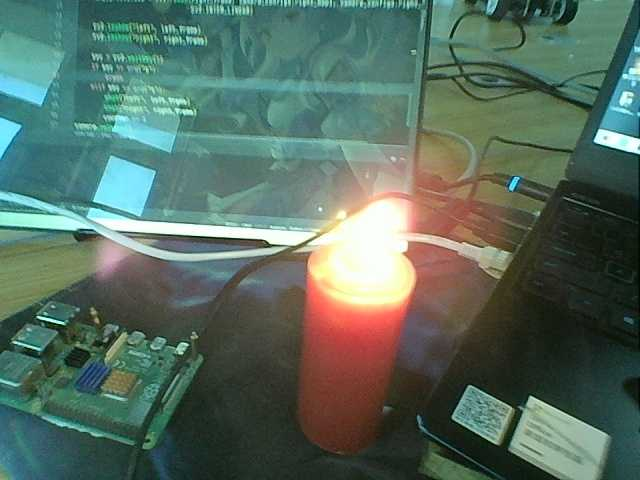candle: (293, 293, 405, 455)
fire: (334, 203, 405, 287)
